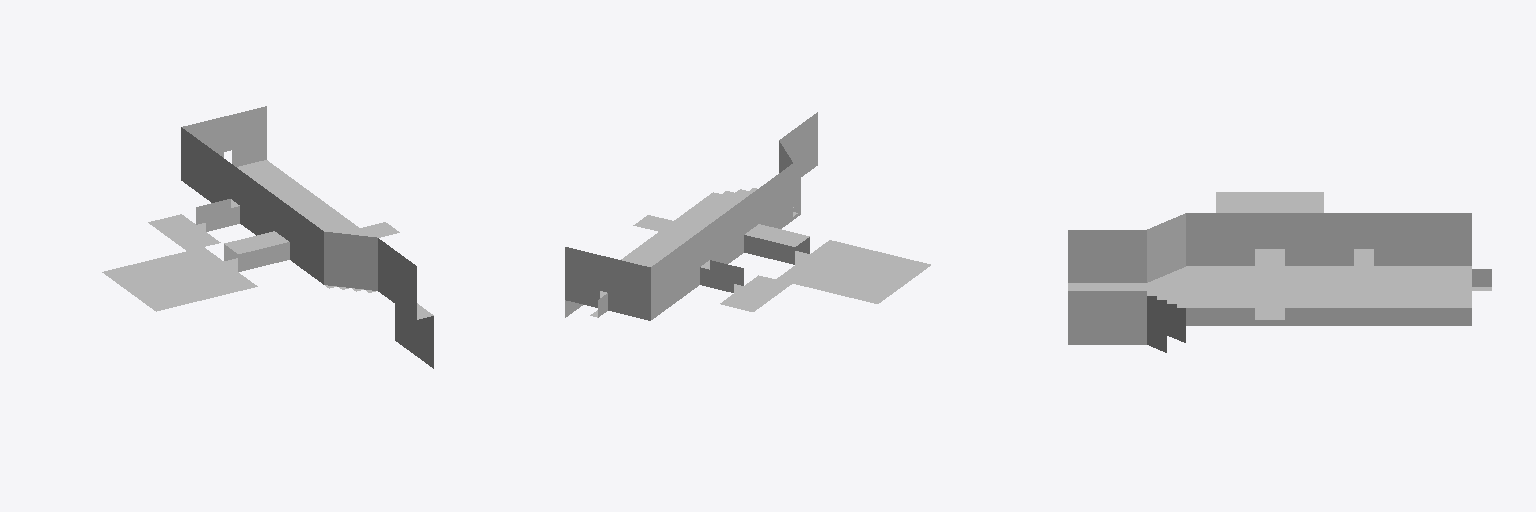
File: road.obj
The picture shows the model from 3 angles: view 1: azimuth 30°, elevation 25°; view 2: azimuth 150°, elevation 25°; view 3: azimuth 270°, elevation 25°; orthographic projection.
Visible parts, largest first — view 1: Plane; view 2: Plane; view 3: Plane.
Boxes of the visible parts, <box> form: Plane: <box>102,106,433,368</box>; Plane: <box>565,112,930,320</box>; Plane: <box>1068,192,1491,352</box>.
Bounding box in the file's own units: 31 × 12 × 43.